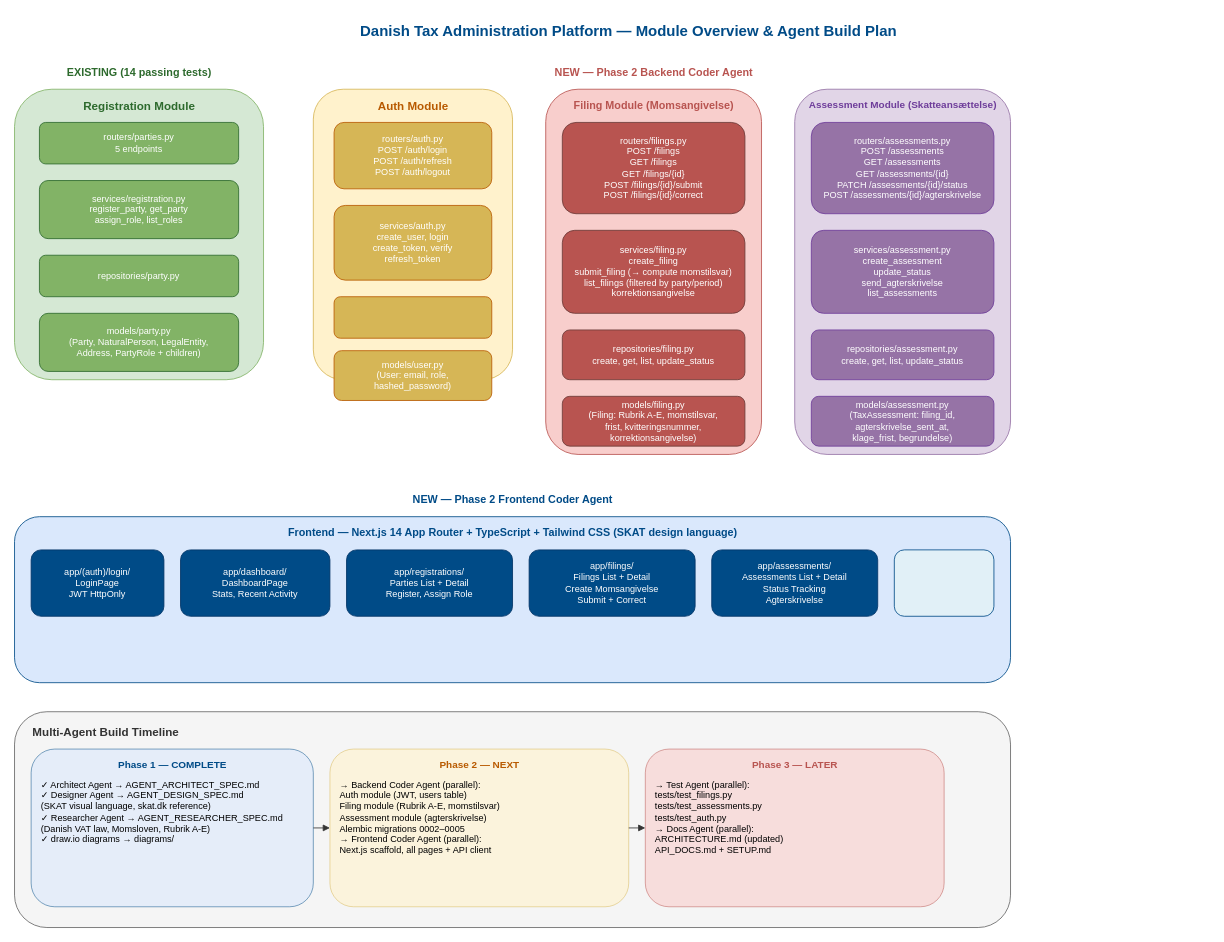
This 1224x942 diagram has some shape labels left out. Here are the shapes that lost their labels. From the top down, the centre of each, then its label:
At point (412, 317): "repositories/user.py".
At point (943, 582): "lib/api-client.ts Typed fetch client Zustand auth store HttpOnly cookies".
